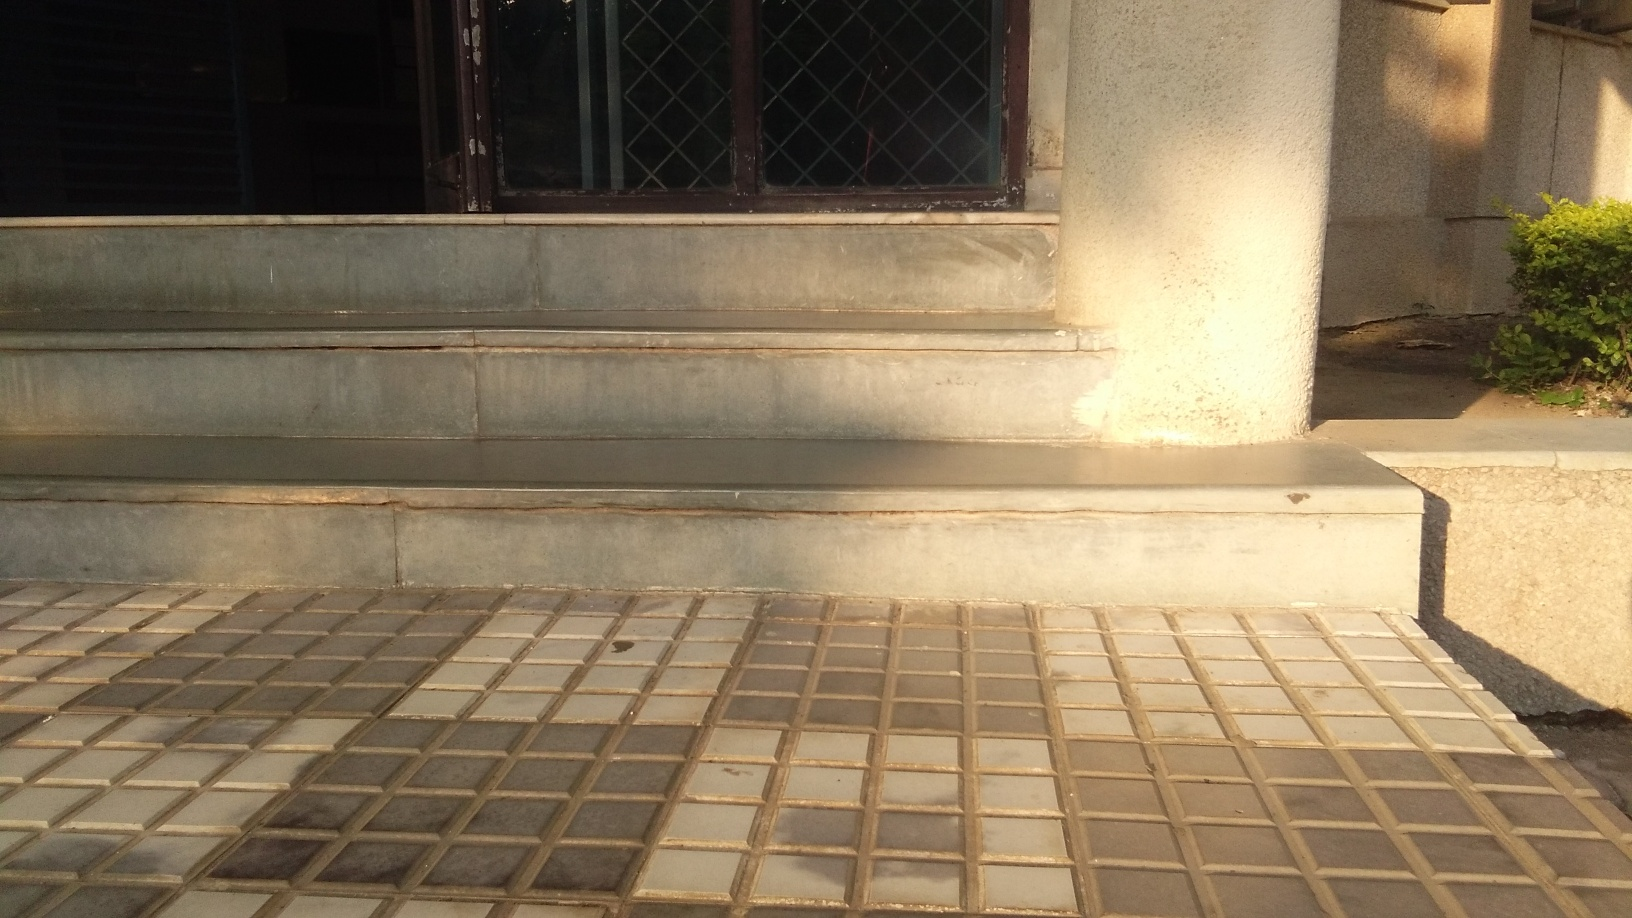stairs_up: (4, 201, 1430, 630)
